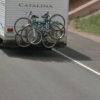Bicycle: (9, 7, 72, 54)
